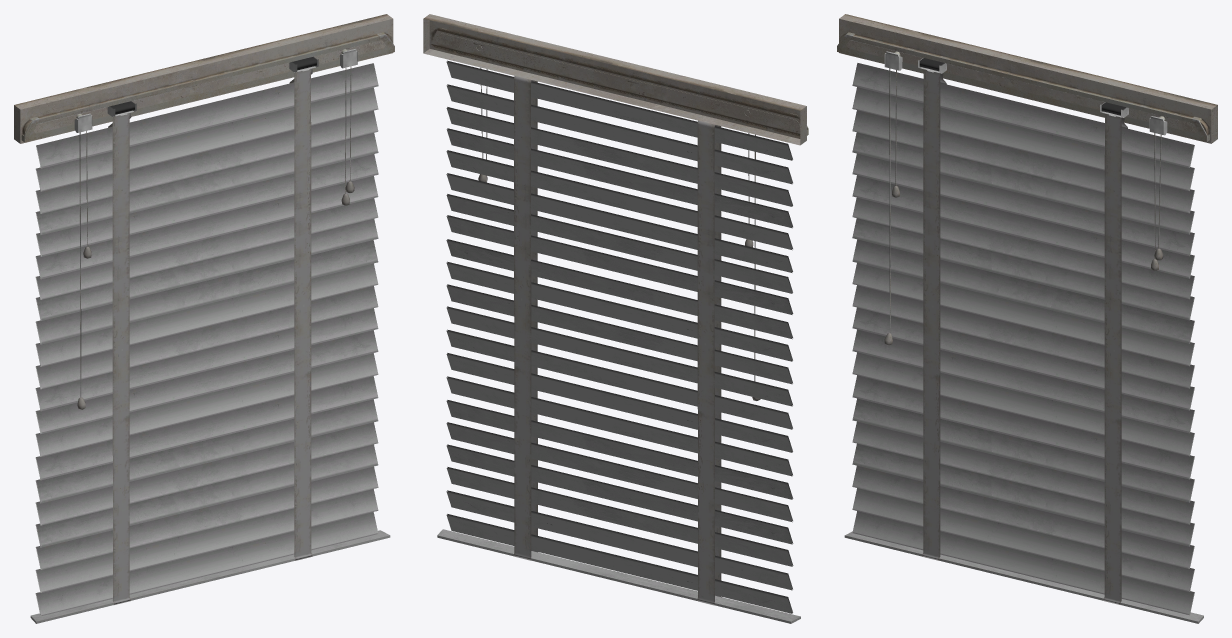
The model's file is 037_OfficeBlind.fbx.
3 renders of one model, left to right at view 1: azimuth 30°, elevation 25°; view 2: azimuth 150°, elevation 25°; view 3: azimuth 330°, elevation 25°, orthographic.
Visible parts, largest first — view 1: LOD_1_Group_0_Sub_1__sm30_037_OfficeBlind01A_A_Mat; view 2: LOD_1_Group_0_Sub_1__sm30_037_OfficeBlind01A_A_Mat; view 3: LOD_1_Group_0_Sub_1__sm30_037_OfficeBlind01A_A_Mat.
Boxes of the visible parts, x1=… form: LOD_1_Group_0_Sub_1__sm30_037_OfficeBlind01A_A_Mat: x1=14, y1=14, x2=394, y2=623; LOD_1_Group_0_Sub_1__sm30_037_OfficeBlind01A_A_Mat: x1=423, y1=14, x2=808, y2=623; LOD_1_Group_0_Sub_1__sm30_037_OfficeBlind01A_A_Mat: x1=837, y1=14, x2=1217, y2=623.
Size of the model in its own units: 1.15 by 1.52 by 0.077.
